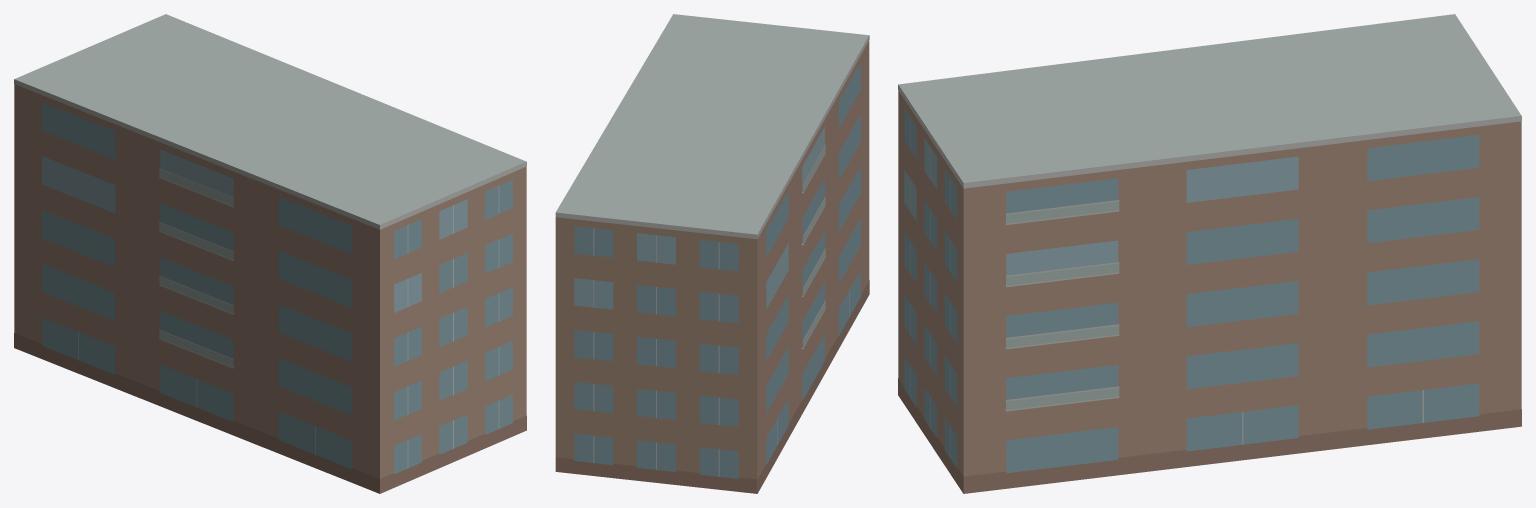
The model's file is survey-upis-32568903.glb.
The picture shows the model from 3 angles, left to right: view 1: azimuth 30°, elevation 25°; view 2: azimuth 150°, elevation 25°; view 3: azimuth 270°, elevation 25°; orthographic projection. The views are drawn at different scales.
Visible parts, largest first — view 1: survey-upis-32568903.tmp; view 2: survey-upis-32568903.tmp; view 3: survey-upis-32568903.tmp.
Part boxes in pixels (bbox=[...]): survey-upis-32568903.tmp: bbox=[14, 14, 526, 493]; survey-upis-32568903.tmp: bbox=[555, 14, 869, 493]; survey-upis-32568903.tmp: bbox=[898, 14, 1521, 493].
Bounding box in the file's own units: 16.12 × 13.8 × 25.11.
